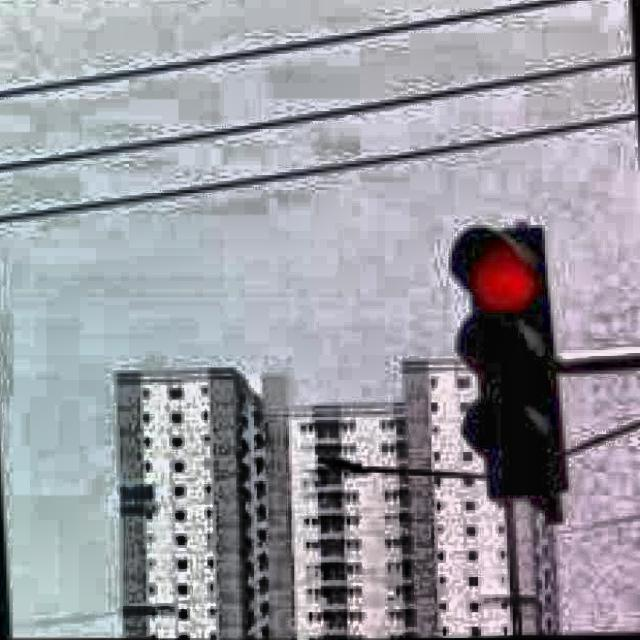red: (451, 222, 554, 491)
